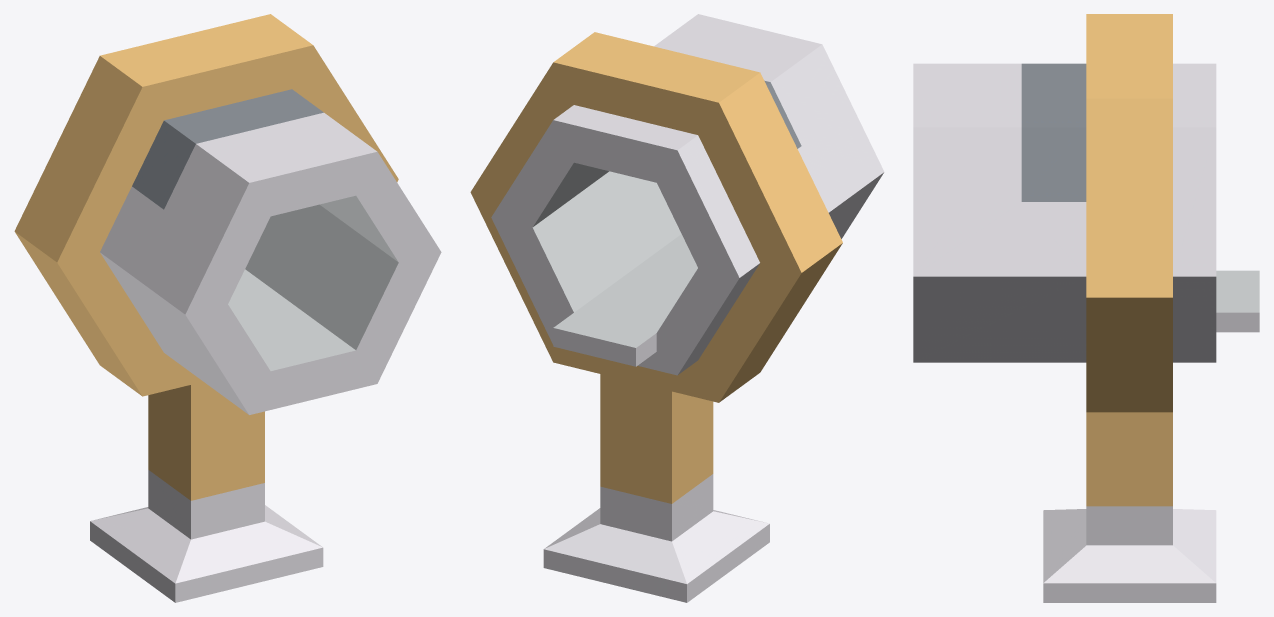
The model's file is pipe_ringHighEnd.glb.
The picture shows the model from 3 angles, left to right: view 1: azimuth 30°, elevation 25°; view 2: azimuth 150°, elevation 25°; view 3: azimuth 270°, elevation 25°; orthographic projection. The views are drawn at different scales.
Parts seen in each view (by area): view 1: pipe_ringHighEnd; view 2: pipe_ringHighEnd; view 3: pipe_ringHighEnd.
Boxes of the visible parts, x1=… form: pipe_ringHighEnd: x1=14, y1=14, x2=441, y2=602; pipe_ringHighEnd: x1=470, y1=14, x2=884, y2=602; pipe_ringHighEnd: x1=913, y1=14, x2=1259, y2=602.
Size of the model in its own units: 0.9238 by 1.3 by 0.8.
1 material, 1 textured.
